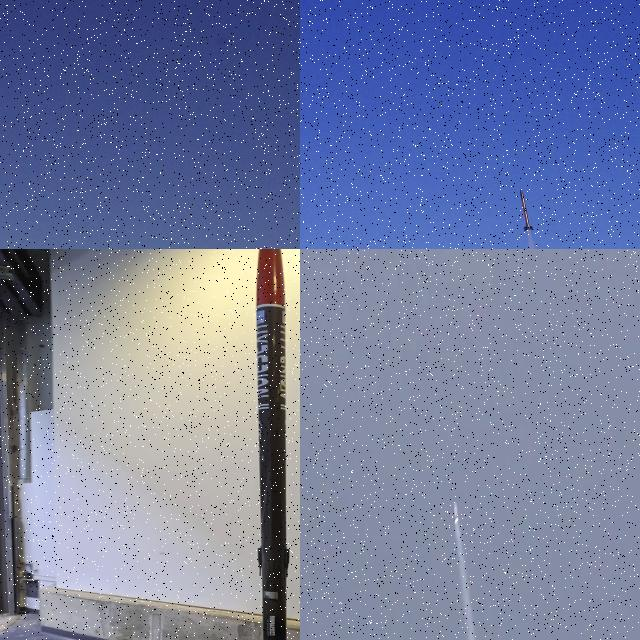Rocket: (256, 249, 290, 640), (519, 188, 535, 231), (454, 502, 459, 524)
